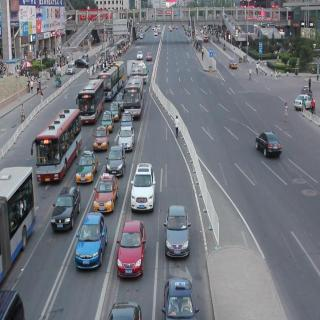BigCar: (37, 109, 79, 177), (72, 76, 106, 112), (102, 62, 125, 104)
Car: (119, 213, 151, 285), (164, 198, 187, 262), (127, 159, 152, 211), (253, 130, 289, 166), (167, 276, 195, 320), (75, 139, 101, 181), (55, 180, 74, 237), (79, 219, 99, 271), (114, 124, 135, 150), (93, 118, 109, 150)
